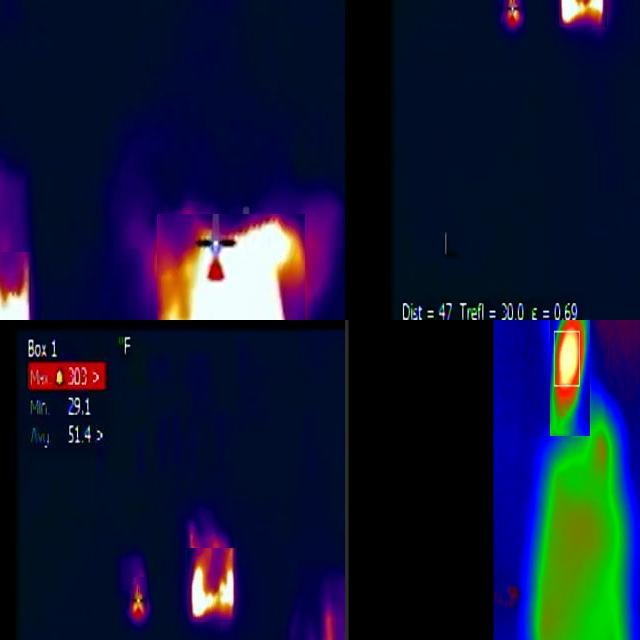fire: (158, 215, 306, 321), (551, 321, 591, 437), (188, 549, 238, 623), (1, 253, 32, 321), (560, 1, 608, 28), (131, 578, 148, 622), (504, 1, 524, 28)
